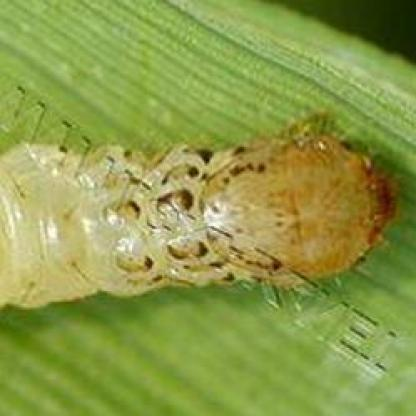leaf-folder: (3, 107, 404, 332)
